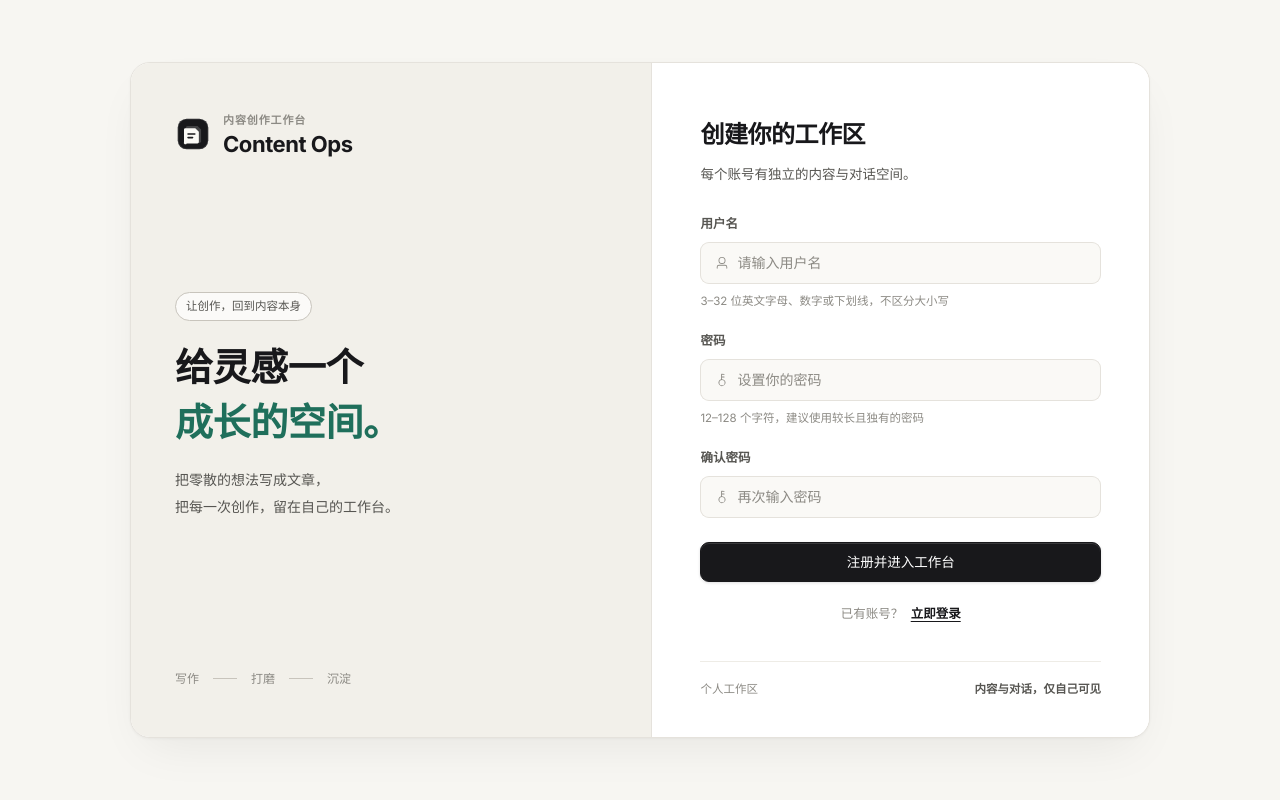
Test: account entry › validates registration input for writer
Type "writer" into the field labelled "用户名 3–32 位英文字母、数字或下划线，不区分大小写" at (912, 263), box [737,244,1086,282]
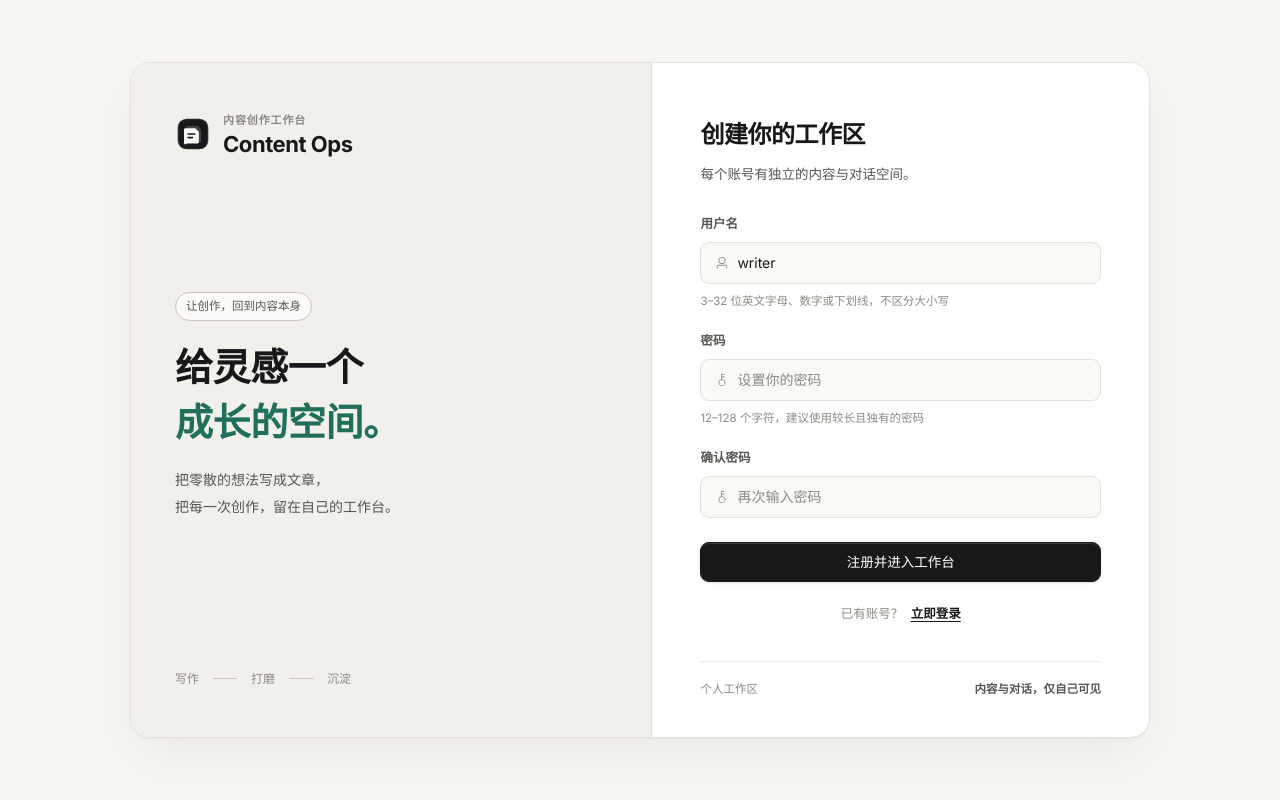
Type "short" into the password field labelled "密码 12–128 个字符，建议使用较长且独有的密码" at (912, 380), box [737,361,1086,399]
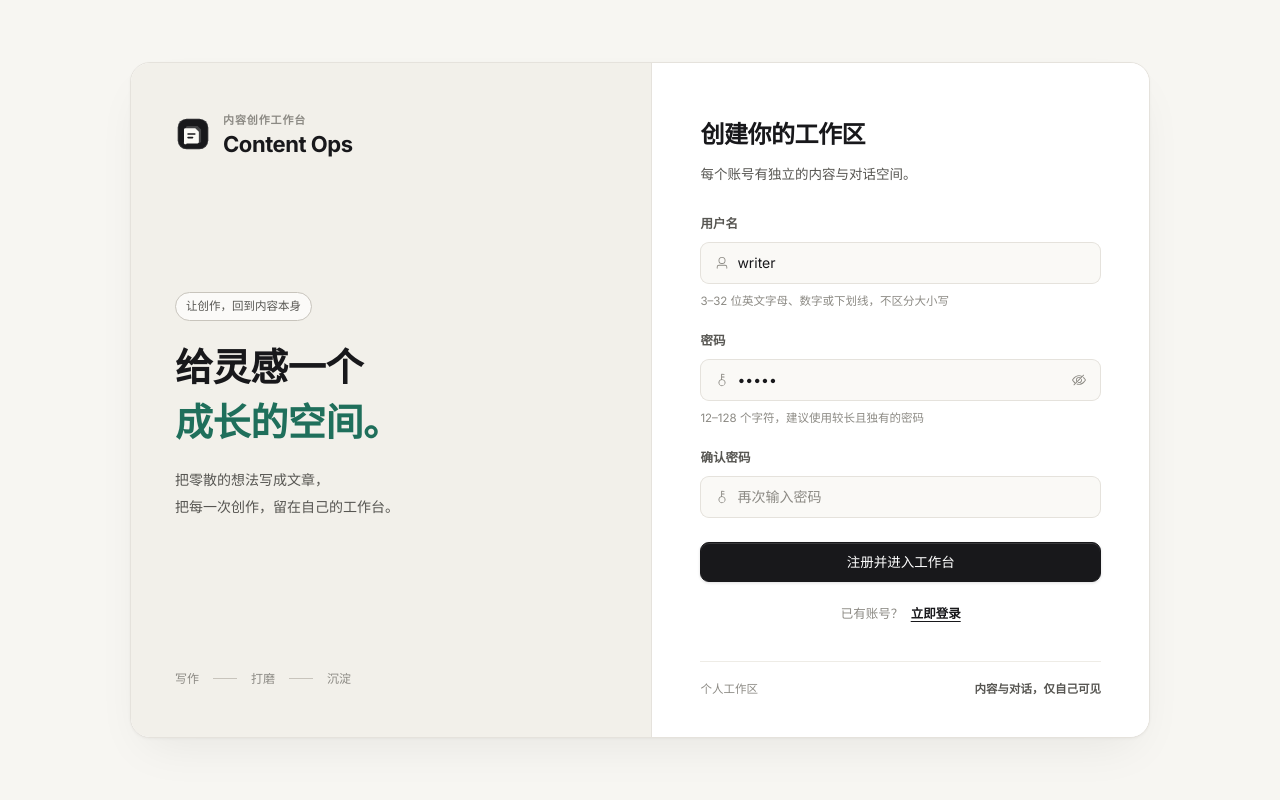
Type "short" into the password field labelled "确认密码" at (912, 497), box [737,478,1086,516]
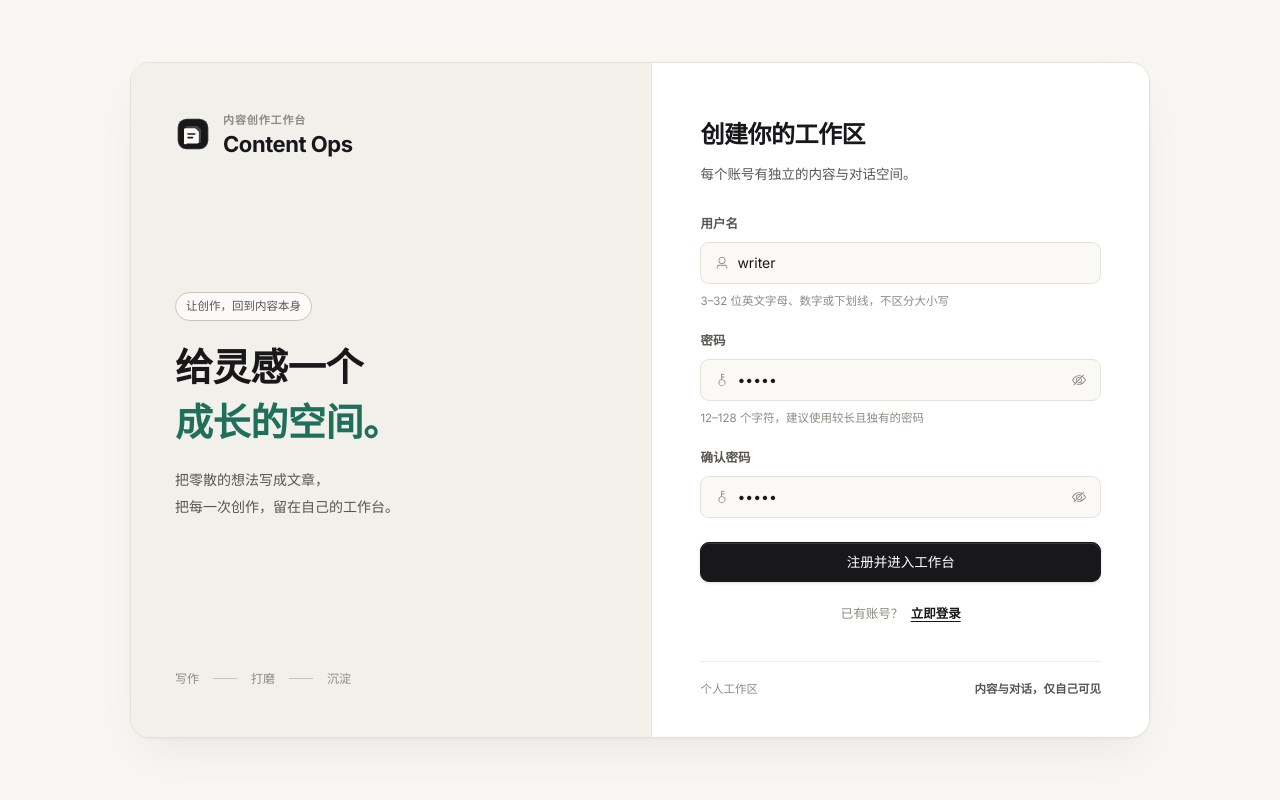
Submit the form, box [700,186,1101,582]
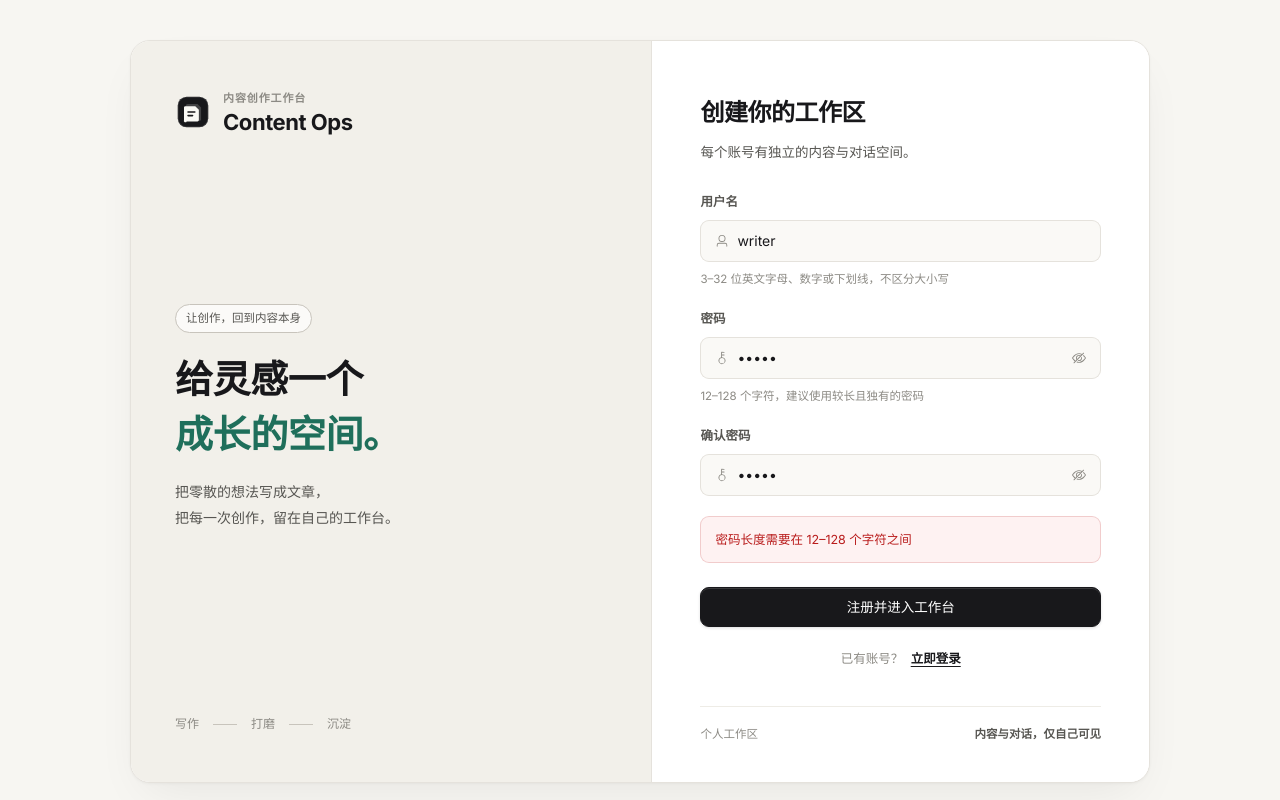
Now the message "密码长度需要在 12–128 个字符之间" is shown, box [700,516,1101,564]
